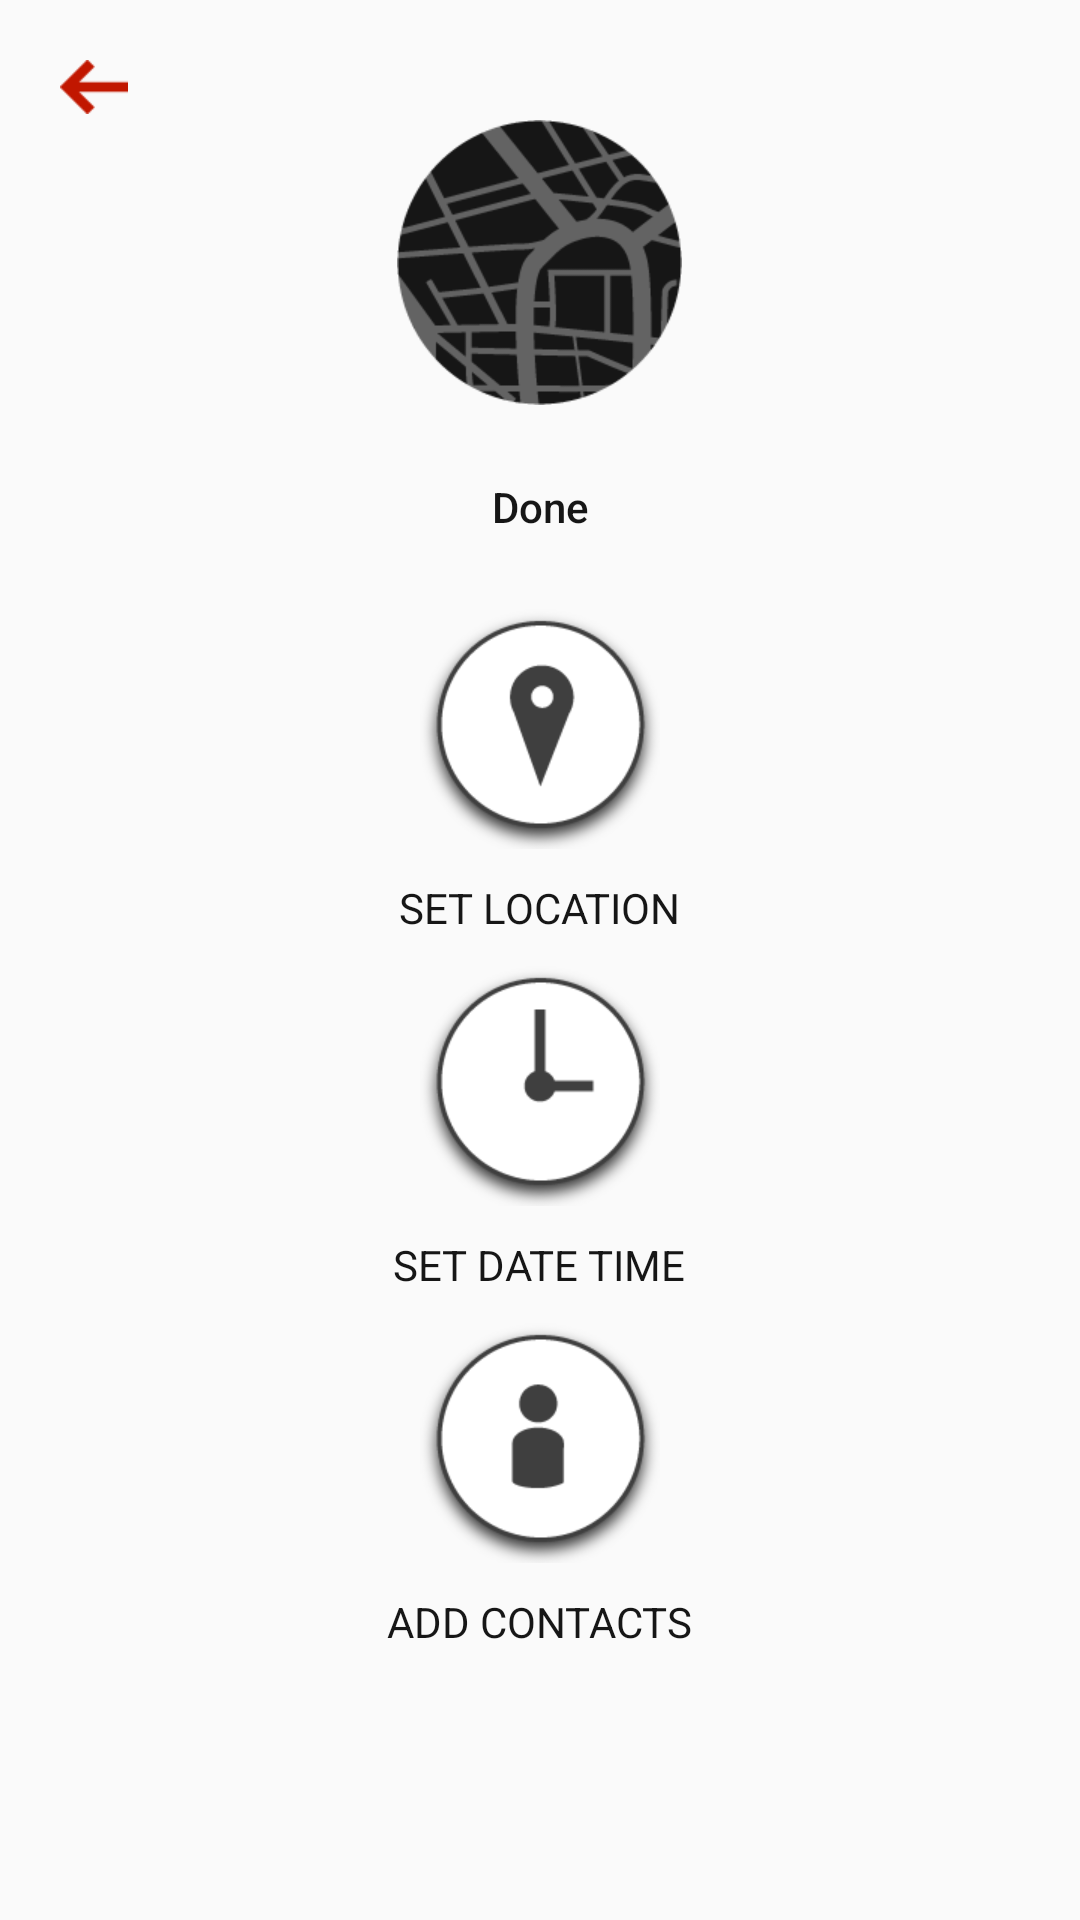

Icons on this 1080*1920 Android screen, each with its box as (x1, y1, x2, y2):
back to map list: (60, 60, 128, 114)
image of a map: (397, 120, 682, 405)
